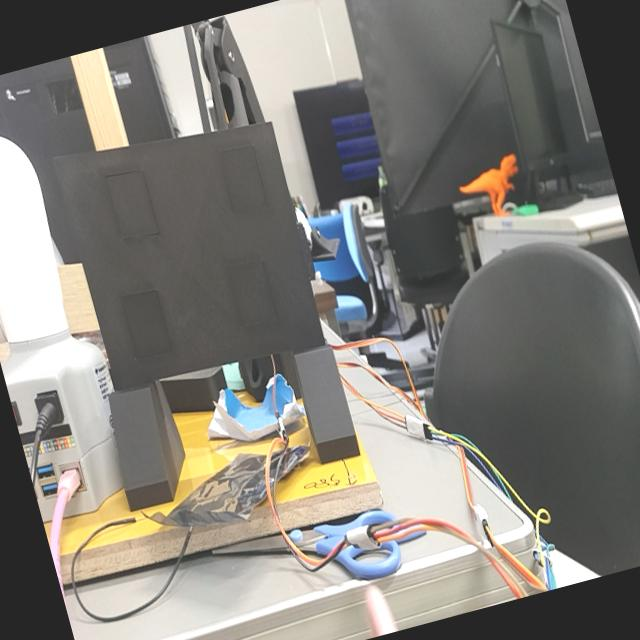Wall: (54, 122, 324, 390)
